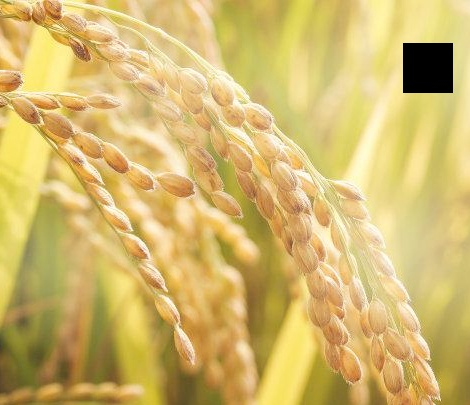rice: (2, 2, 430, 403)
